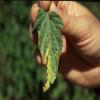Tomato leaf bacterial spot: (31, 6, 66, 95)
